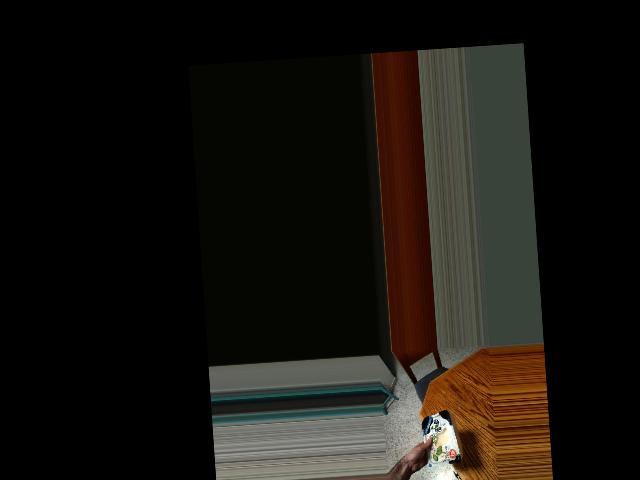cheese: (418, 408, 456, 470)
